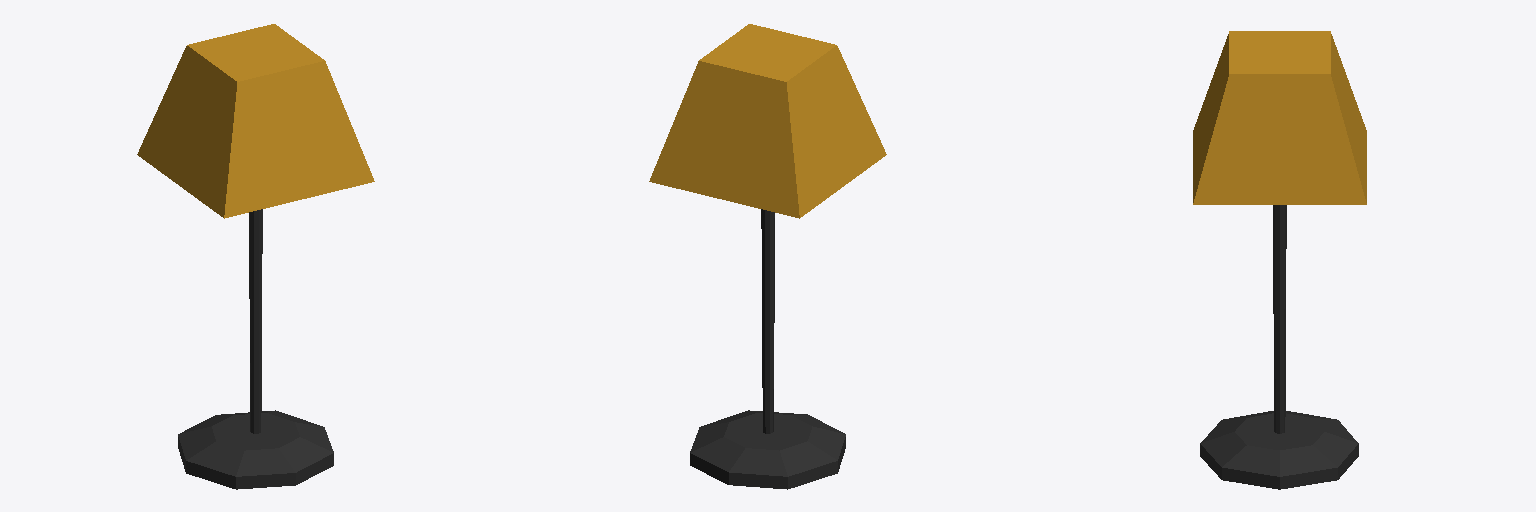
File: standing_lamp.obj
3 renders of one model, left to right at view 1: azimuth 30°, elevation 25°; view 2: azimuth 150°, elevation 25°; view 3: azimuth 270°, elevation 25°, orthographic.
Parts seen in each view (by area): view 1: Cube; view 2: Cube; view 3: Cube.
Boxes of the visible parts, <box> form: Cube: <box>137,24,374,489</box>; Cube: <box>649,24,886,489</box>; Cube: <box>1193,31,1366,489</box>.
Bounding box in the file's own units: 2.36 × 6.08 × 2.36.